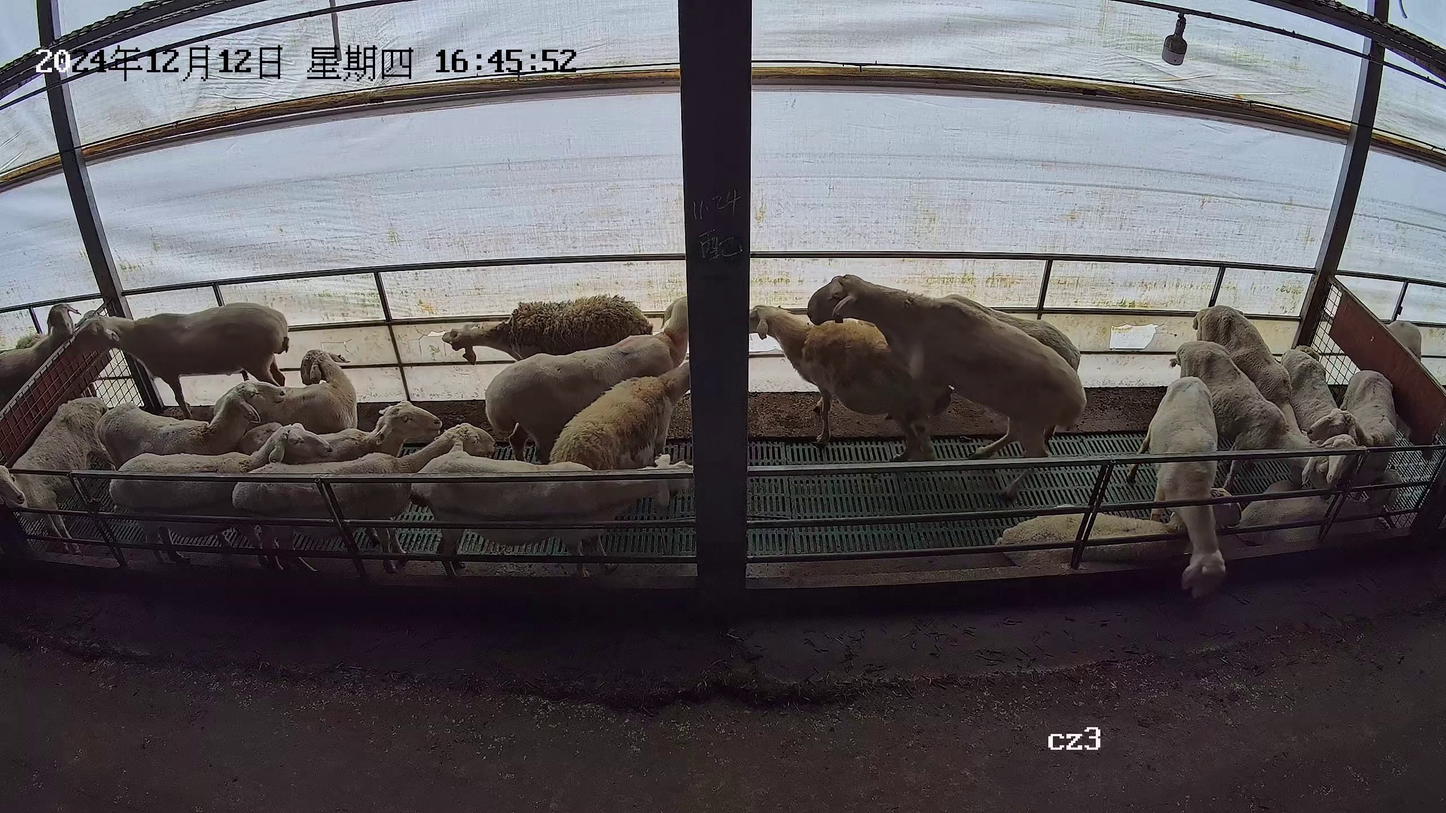Smounting: (745, 272, 1086, 495)
mounted: (748, 301, 954, 461)
